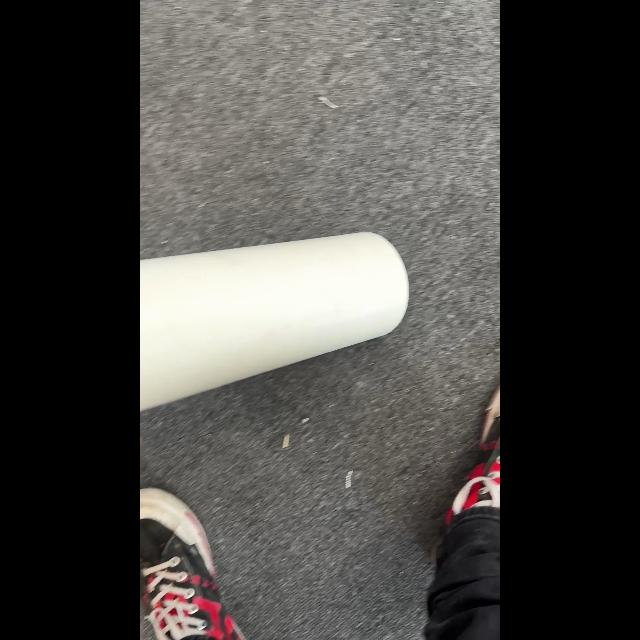CORAL: (140, 230, 410, 410)
